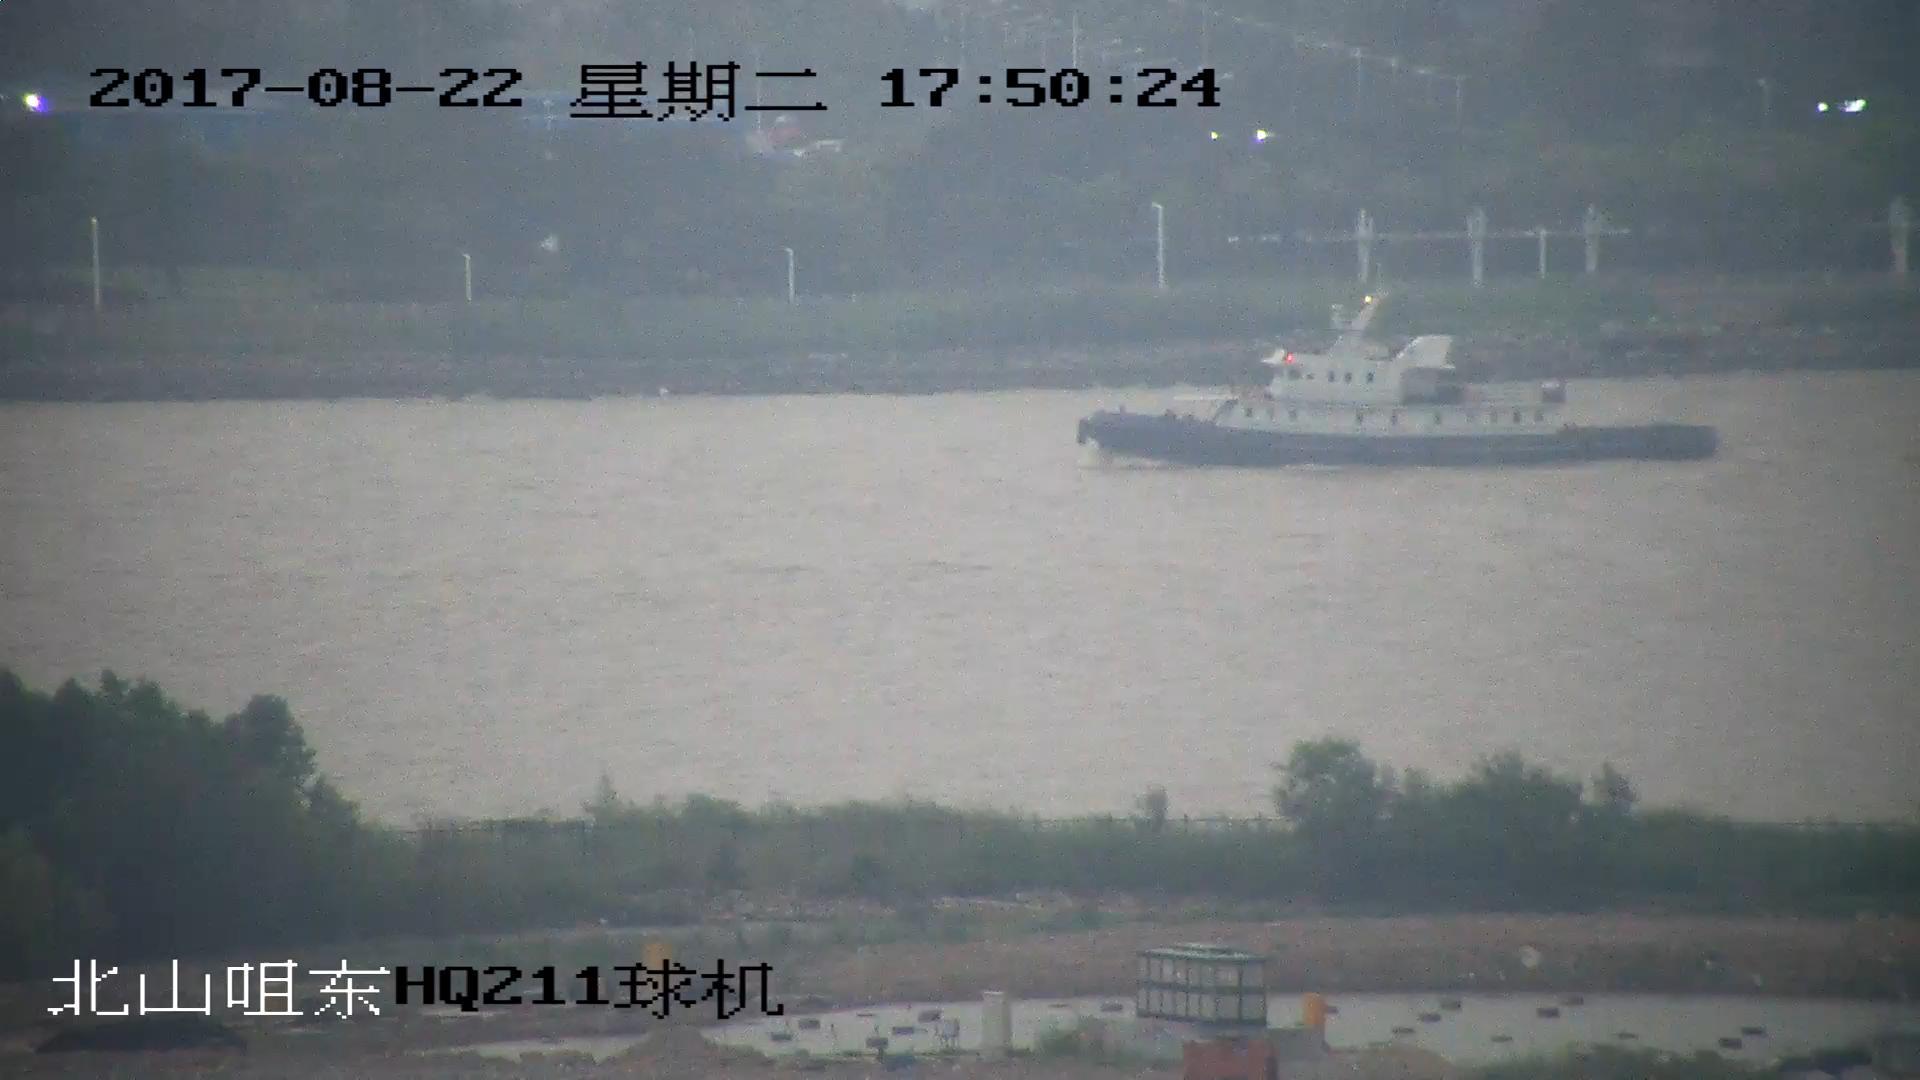passenger ship: (1080, 289, 1720, 467)
